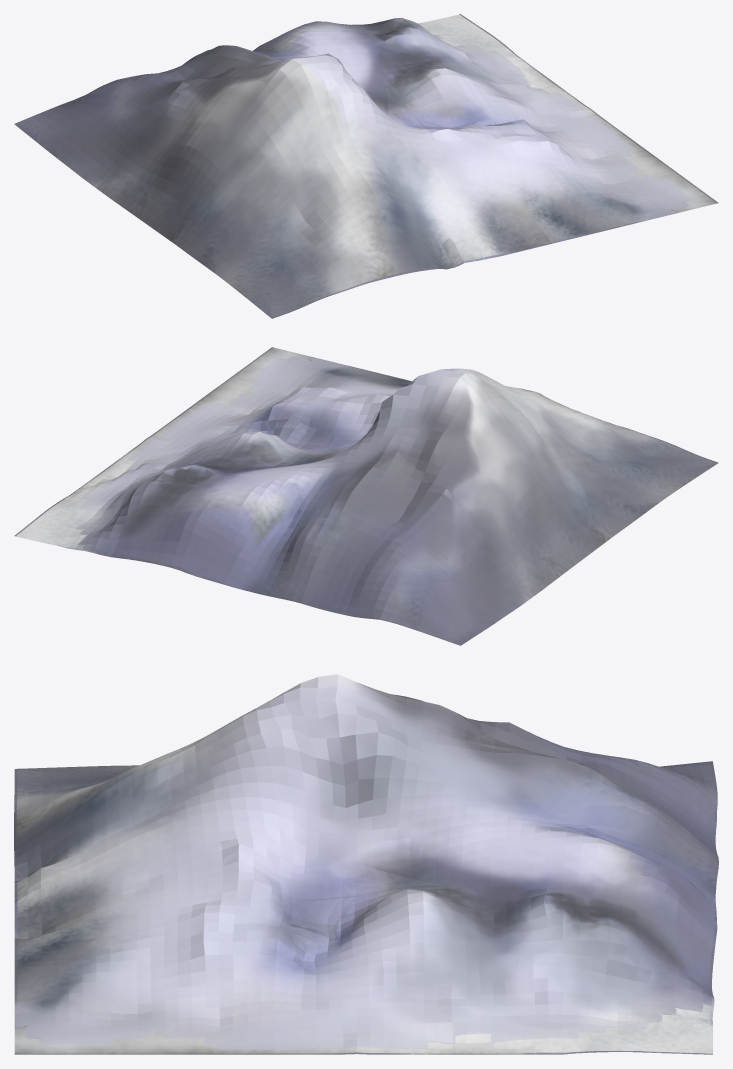
Rendered from hill 2.fbx.
3 views of the same model, one above another, from view 1: azimuth 30°, elevation 25°; view 2: azimuth 150°, elevation 25°; view 3: azimuth 270°, elevation 25° (orthographic). The views are drawn at different scales.
Visible parts, largest first — view 1: Plane.010; view 2: Plane.010; view 3: Plane.010.
Part boxes in pixels (x1=…): Plane.010: x1=14, y1=14, x2=718, y2=318; Plane.010: x1=14, y1=347, x2=718, y2=645; Plane.010: x1=14, y1=674, x2=718, y2=1054.
Size of the model in its own units: 4998 by 1546 by 5048.
